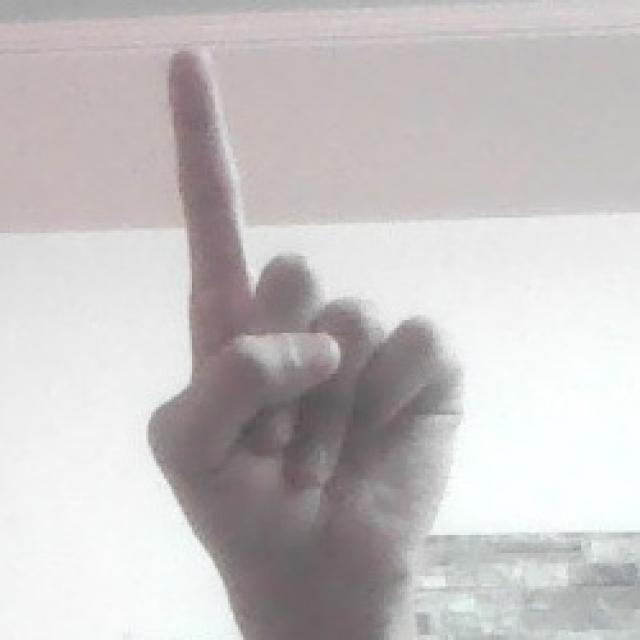Numeric-1: (153, 47, 460, 627)
